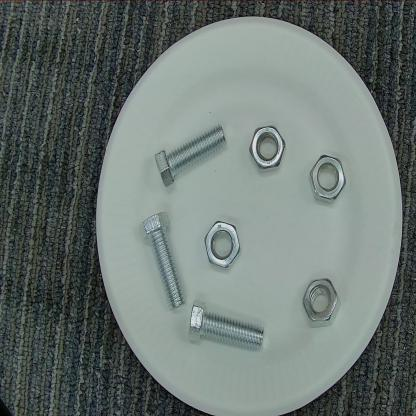FOD: (153, 119, 231, 188), (137, 210, 187, 312), (188, 298, 274, 356), (245, 119, 298, 177), (304, 150, 351, 206), (202, 219, 247, 271), (300, 276, 344, 327)
